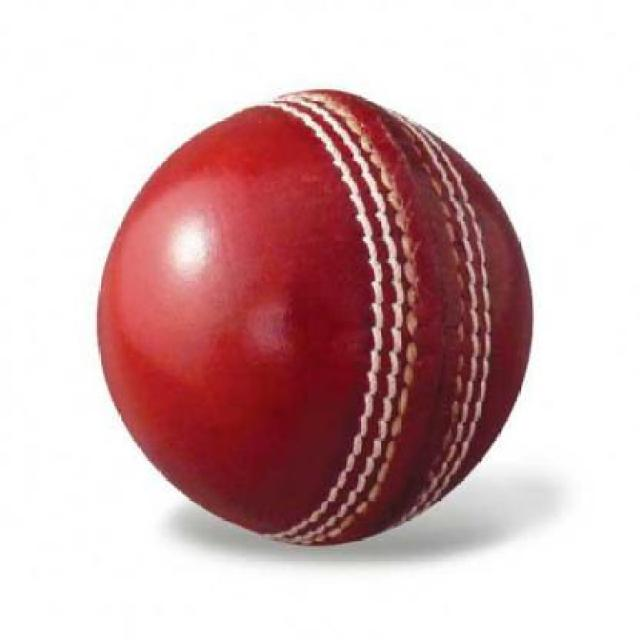ball: (73, 58, 566, 570)
